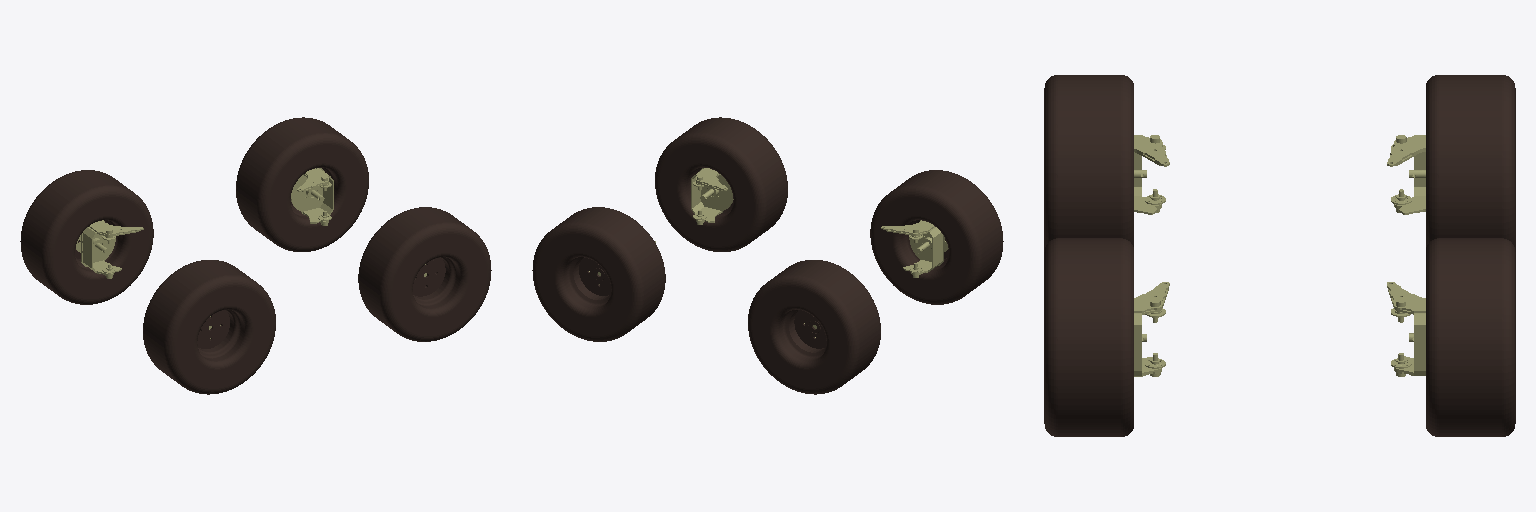
URDF robot description (h500_sprayer):
<?xml version="1.0" encoding="utf-8"?>
<!-- =================================================================================== -->
<!-- |    This document was autogenerated by xacro from [local-path]/github/hada_explorer_ws/src/h500_description/h500_sprayer/h500.urdf.xacro | -->
<!-- |    EDITING THIS FILE BY HAND IS NOT RECOMMENDED                                 | -->
<!-- =================================================================================== -->
<robot name="h500_sprayer">
  <!-- =============== Link & Joint =============== -->
  <!-- Base -->
  <link name="base_footprint"/>
  <joint name="base_link_joint" type="fixed">
    <origin rpy="0 0 0" xyz="0 0 0.05"/>
    <parent link="base_footprint"/>
    <child link="base_link"/>
  </joint>
  <link name="base_link">
    <visual>
      <geometry>
        <mesh filename="package://h500_description/meshes/DAE/base/h500_body.dae"/>
      </geometry>
    </visual>
    <collision>
      <geometry>
        <mesh filename="package://h500_description/meshes/DAE/base/h500_body.dae"/>
      </geometry>
    </collision>
    <inertial>
      <origin xyz="0 0 0.017"/>
      <mass value="1.2"/>
      <inertia ixx="0.0001873" ixy="0" ixz="0" iyy="0.000055" iyz="0" izz="0.0002283"/>
    </inertial>
  </link>
  <joint name="front_right_steering_joint" type="revolute">
    <origin xyz="-0.442 0.361 0.0135"/>
    <parent link="base_link"/>
    <child link="front_right_steering_link"/>
    <limit effort="5" lower="-2.1" upper="2.1" velocity="6.28"/>
    <axis xyz="0 0 2."/>
  </joint>
  <link name="front_right_steering_link">
    <visual>
      <geometry>
        <mesh filename="package://h500_description/meshes/DAE/suspension/front_right_link.dae"/>
      </geometry>
    </visual>
    <collision>
      <geometry>
        <mesh filename="package://h500_description/meshes/DAE/suspension/front_right_link.dae"/>
      </geometry>
    </collision>
    <inertial>
      <origin xyz="0 0 -0.02"/>
      <mass value="0.15"/>
      <inertia ixx="0.00001" ixy="0" ixz="0" iyy="0.00001" iyz="0" izz="0.000004"/>
    </inertial>
  </link>
  <joint name="front_left_steering_joint" type="revolute">
    <origin xyz="-0.442 -0.3495 0.0135"/>
    <parent link="base_link"/>
    <child link="front_left_steering_link"/>
    <limit effort="5" lower="-2.1" upper="2.1" velocity="6.28"/>
    <axis xyz="0 0 1"/>
  </joint>
  <link name="front_left_steering_link">
    <visual>
      <geometry>
        <mesh filename="package://h500_description/meshes/DAE/suspension/front_left_link.dae"/>
      </geometry>
    </visual>
    <collision>
      <geometry>
        <mesh filename="package://h500_description/meshes/DAE/suspension/front_left_link.dae"/>
      </geometry>
    </collision>
    <inertial>
      <origin xyz="0 0 -0.02"/>
      <mass value="0.15"/>
      <inertia ixx="0.00001" ixy="0" ixz="0" iyy="0.00001" iyz="0" izz="0.000004"/>
    </inertial>
  </link>
  <joint name="rear_right_steering_joint" type="revolute">
    <origin xyz="0.676 0.361 0.0135"/>
    <parent link="base_link"/>
    <child link="rear_right_steering_link"/>
    <limit effort="5" lower="-2.1" upper="2.1" velocity="6.28"/>
    <axis xyz="0 0 1"/>
  </joint>
  <link name="rear_right_steering_link">
    <visual>
      <geometry>
        <mesh filename="package://h500_description/meshes/DAE/suspension/rear_right_link.dae"/>
      </geometry>
    </visual>
    <collision>
      <geometry>
        <mesh filename="package://h500_description/meshes/DAE/suspension/rear_right_link.dae"/>
      </geometry>
    </collision>
    <inertial>
      <origin xyz="0 0 -0.02"/>
      <mass value="0.15"/>
      <inertia ixx="0.00001" ixy="0" ixz="0" iyy="0.00001" iyz="0" izz="0.000004"/>
    </inertial>
  </link>
  <joint name="rear_left_steering_joint" type="revolute">
    <origin xyz="0.676 -0.3495 0.0135"/>
    <parent link="base_link"/>
    <child link="rear_left_steering_link"/>
    <limit effort="5" lower="-2.1" upper="2.1" velocity="6.28"/>
    <axis xyz="0 0 1"/>
  </joint>
  <link name="rear_left_steering_link">
    <visual>
      <geometry>
        <mesh filename="package://h500_description/meshes/DAE/suspension/rear_left_link.dae"/>
      </geometry>
    </visual>
    <collision>
      <geometry>
        <mesh filename="package://h500_description/meshes/DAE/suspension/rear_left_link.dae"/>
      </geometry>
    </collision>
    <inertial>
      <origin xyz="0 0 -0.02"/>
      <mass value="0.15"/>
      <inertia ixx="0.00001" ixy="0" ixz="0" iyy="0.00001" iyz="0" izz="0.000004"/>
    </inertial>
  </link>
  <joint name="ffr_wheel_joint" type="continuous">
    <origin rpy="0 0 3.14159274" xyz="-0.0004 0.07 0.118"/>
    <parent link="front_right_steering_link"/>
    <child link="ffr_wheel_link"/>
    <limit effort="1.5" velocity="20"/>
    <axis xyz="0 1 0"/>
  </joint>
  <link name="ffr_wheel_link">
    <visual>
      <geometry>
        <mesh filename="package://h500_description/meshes/DAE/wheel/H500_wheel.dae"/>
      </geometry>
    </visual>
    <collision>
      <geometry>
        <mesh filename="package://h500_description/meshes/DAE/wheel/H500_wheel.dae"/>
      </geometry>
    </collision>
    <inertial>
      <origin xyz="0.0 -0.007 -0.0"/>
      <mass value="0.05"/>
      <inertia ixx="0.00001" ixy="0" ixz="0" iyy="0.000018" iyz="0" izz="0.00001"/>
    </inertial>
  </link>
  <joint name="ffl_wheel_joint" type="continuous">
    <origin rpy="0 0 3.14159274" xyz="-0.0004 -0.32 0.118"/>
    <parent link="front_left_steering_link"/>
    <child link="ffl_wheel_link"/>
    <limit effort="1.5" velocity="20"/>
    <axis xyz="0 -1 0"/>
  </joint>
  <link name="ffl_wheel_link">
    <visual>
      <geometry>
        <mesh filename="package://h500_description/meshes/DAE/wheel/H500_wheel.dae"/>
      </geometry>
    </visual>
    <collision>
      <geometry>
        <mesh filename="package://h500_description/meshes/DAE/wheel/H500_wheel.dae"/>
      </geometry>
    </collision>
    <inertial>
      <origin xyz="0.0 -0.007 -0.0"/>
      <mass value="0.05"/>
      <inertia ixx="0.00001" ixy="0" ixz="0" iyy="0.000018" iyz="0" izz="0.00001"/>
    </inertial>
  </link>
  <joint name="rfr_wheel_joint" type="continuous">
    <origin rpy="0 0 3.14159274" xyz="-0.0004 0.07 0.118"/>
    <parent link="rear_right_steering_link"/>
    <child link="rfr_wheel_link"/>
    <limit effort="1.5" velocity="20"/>
    <axis xyz="0 1 0"/>
  </joint>
  <link name="rfr_wheel_link">
    <visual>
      <geometry>
        <mesh filename="package://h500_description/meshes/DAE/wheel/H500_wheel.dae"/>
      </geometry>
    </visual>
    <collision>
      <geometry>
        <mesh filename="package://h500_description/meshes/DAE/wheel/H500_wheel.dae"/>
      </geometry>
    </collision>
    <inertial>
      <origin xyz="0.0 -0.007 -0.0"/>
      <mass value="0.05"/>
      <inertia ixx="0.00001" ixy="0" ixz="0" iyy="0.000018" iyz="0" izz="0.00001"/>
    </inertial>
  </link>
  <joint name="rfl_wheel_joint" type="continuous">
    <origin rpy="0 0 3.14159274" xyz="-0.0004 -0.32 0.118"/>
    <parent link="rear_left_steering_link"/>
    <child link="rfl_wheel_link"/>
    <limit effort="1.5" velocity="20"/>
    <axis xyz="0 -1 0"/>
  </joint>
  <link name="rfl_wheel_link">
    <visual>
      <geometry>
        <mesh filename="package://h500_description/meshes/DAE/wheel/H500_wheel.dae"/>
      </geometry>
    </visual>
    <collision>
      <geometry>
        <mesh filename="package://h500_description/meshes/DAE/wheel/H500_wheel.dae"/>
      </geometry>
    </collision>
    <inertial>
      <origin xyz="0.0 -0.007 -0.0"/>
      <mass value="0.05"/>
      <inertia ixx="0.00001" ixy="0" ixz="0" iyy="0.000018" iyz="0" izz="0.00001"/>
    </inertial>
  </link>
  <transmission name="ffr_wheel_trans">
    <type>transmission_interface/SimpleTransmission</type>
    <joint name="ffr_wheel_joint">
      <hardwareInterface>hardware_interface/VelocityJointInterface</hardwareInterface>
    </joint>
    <actuator name="ffr_wheel_motor">
      <hardwareInterface>hardware_interface/VelocityJointInterface</hardwareInterface>
      <mechanicalReduction>1</mechanicalReduction>
    </actuator>
  </transmission>
  <transmission name="ffl_wheel_trans">
    <type>transmission_interface/SimpleTransmission</type>
    <joint name="ffl_wheel_joint">
      <hardwareInterface>hardware_interface/VelocityJointInterface</hardwareInterface>
    </joint>
    <actuator name="ffl_wheel_motor">
      <hardwareInterface>hardware_interface/VelocityJointInterface</hardwareInterface>
      <mechanicalReduction>1</mechanicalReduction>
    </actuator>
  </transmission>
  <transmission name="rfr_wheel_trans">
    <type>transmission_interface/SimpleTransmission</type>
    <joint name="rfr_wheel_joint">
      <hardwareInterface>hardware_interface/VelocityJointInterface</hardwareInterface>
    </joint>
    <actuator name="rfr_wheel_motor">
      <hardwareInterface>hardware_interface/VelocityJointInterface</hardwareInterface>
      <mechanicalReduction>1</mechanicalReduction>
    </actuator>
  </transmission>
  <transmission name="rfl_wheel_trans">
    <type>transmission_interface/SimpleTransmission</type>
    <joint name="rfl_wheel_joint">
      <hardwareInterface>hardware_interface/VelocityJointInterface</hardwareInterface>
    </joint>
    <actuator name="rfl_wheel_motor">
      <hardwareInterface>hardware_interface/VelocityJointInterface</hardwareInterface>
      <mechanicalReduction>1</mechanicalReduction>
    </actuator>
  </transmission>
  <transmission name="front_right_steering_trans">
    <type>transmission_interface/SimpleTransmission</type>
    <joint name="front_right_steering_joint">
      <hardwareInterface>hardware_interface/PositionJointInterface</hardwareInterface>
    </joint>
    <actuator name="front_right_steering_motor">
      <hardwareInterface>hardware_interface/PositionJointInterface</hardwareInterface>
      <mechanicalReduction>30</mechanicalReduction>
    </actuator>
  </transmission>
  <transmission name="front_left_steering_trans">
    <type>transmission_interface/SimpleTransmission</type>
    <joint name="front_left_steering_joint">
      <hardwareInterface>hardware_interface/PositionJointInterface</hardwareInterface>
    </joint>
    <actuator name="front_left_steering_motor">
      <hardwareInterface>hardware_interface/PositionJointInterface</hardwareInterface>
      <mechanicalReduction>30</mechanicalReduction>
    </actuator>
  </transmission>
  <transmission name="rear_right_steering_trans">
    <type>transmission_interface/SimpleTransmission</type>
    <joint name="rear_right_steering_joint">
      <hardwareInterface>hardware_interface/PositionJointInterface</hardwareInterface>
    </joint>
    <actuator name="rear_right_steering_motor">
      <hardwareInterface>hardware_interface/PositionJointInterface</hardwareInterface>
      <mechanicalReduction>30</mechanicalReduction>
    </actuator>
  </transmission>
  <transmission name="rear_left_steering_trans">
    <type>transmission_interface/SimpleTransmission</type>
    <joint name="rear_left_steering_joint">
      <hardwareInterface>hardware_interface/PositionJointInterface</hardwareInterface>
    </joint>
    <actuator name="rear_left_steering_motor">
      <hardwareInterface>hardware_interface/PositionJointInterface</hardwareInterface>
      <mechanicalReduction>30</mechanicalReduction>
    </actuator>
  </transmission>
  <!-- =============== Gazebo =============== -->
  <gazebo>
    <plugin filename="libgazebo_ros_control.so" name="gazebo_ros_control">
    </plugin>
  </gazebo>
  <gazebo reference="base_link">
    <selfCollide>false</selfCollide>
    <mu1 value="0.05"/>
    <mu2 value="0.05"/>
  </gazebo>
  <gazebo reference="fr_wheel_link">
    <selfCollide>false</selfCollide>
    <mu1 value="1.2"/>
    <mu2 value="1.2"/>
  </gazebo>
  <gazebo reference="fl_wheel_link">
    <selfCollide>false</selfCollide>
    <mu1 value="1.2"/>
    <mu2 value="1.2"/>
  </gazebo>
  <gazebo reference="rr_wheel_link">
    <selfCollide>false</selfCollide>
    <mu1 value="1.2"/>
    <mu2 value="1.2"/>
  </gazebo>
  <gazebo reference="rl_wheel_link">
    <selfCollide>false</selfCollide>
    <mu1 value="1.2"/>
    <mu2 value="1.2"/>
  </gazebo>
  <gazebo reference="front_right_steering_link">
    <selfCollide>false</selfCollide>
    <mu1 value="0.05"/>
    <mu2 value="0.05"/>
  </gazebo>
  <gazebo reference="front_left_steering_link">
    <selfCollide>false</selfCollide>
    <mu1 value="0.05"/>
    <mu2 value="0.05"/>
  </gazebo>
  <gazebo reference="rear_right_steering_link">
    <selfCollide>false</selfCollide>
    <mu1 value="0.05"/>
    <mu2 value="0.05"/>
  </gazebo>
  <gazebo reference="rear_left_steering_link">
    <selfCollide>false</selfCollide>
    <mu1 value="0.05"/>
    <mu2 value="0.05"/>
  </gazebo>
</robot>

--- What the picture shows (computed from the rendered views, not written in the file) ---
Views: 3 orthographic renders of the robot side by side, from view 1: azimuth 30°, elevation 25°; view 2: azimuth 150°, elevation 25°; view 3: azimuth 270°, elevation 25°.
Robot: h500_sprayer — 10 links, 9 joints (4 revolute, 4 continuous, 1 fixed); root link base_footprint; default pose: all joints at 0.
Visible links, largest first — view 1: rfl_wheel_link, ffl_wheel_link, ffr_wheel_link, rfr_wheel_link, rear_right_steering_link, front_right_steering_link; view 2: rfr_wheel_link, ffr_wheel_link, ffl_wheel_link, rfl_wheel_link, rear_left_steering_link, front_left_steering_link; view 3: rfr_wheel_link, rfl_wheel_link, ffr_wheel_link, ffl_wheel_link, rear_right_steering_link, front_right_steering_link, rear_left_steering_link, front_left_steering_link.
Link boxes in pixels (box(x1,y1,x2,y2)): rfl_wheel_link: box(358, 207, 491, 341); ffl_wheel_link: box(143, 260, 275, 394); ffr_wheel_link: box(20, 170, 153, 304); rfr_wheel_link: box(236, 117, 368, 251); rear_right_steering_link: box(291, 168, 333, 225); front_right_steering_link: box(76, 220, 143, 278); rfr_wheel_link: box(532, 207, 665, 341); ffr_wheel_link: box(748, 260, 880, 394); ffl_wheel_link: box(870, 170, 1003, 304); rfl_wheel_link: box(655, 117, 787, 251); rear_left_steering_link: box(691, 168, 733, 224); front_left_steering_link: box(881, 220, 948, 277); rfr_wheel_link: box(1426, 238, 1515, 436); rfl_wheel_link: box(1044, 238, 1133, 436); ffr_wheel_link: box(1426, 75, 1515, 251); ffl_wheel_link: box(1044, 75, 1133, 251); rear_right_steering_link: box(1387, 282, 1425, 376); front_right_steering_link: box(1387, 135, 1425, 214); rear_left_steering_link: box(1134, 282, 1169, 376); front_left_steering_link: box(1134, 135, 1169, 214).
Size in the robot's own frame: 1.69 by 1.36 by 0.575 metres.
Meshes: 6 distinct files referenced, 8 mesh visuals loaded (5 Collada DAE); not drawn: 1 (reference not matched to a file when rendering).
